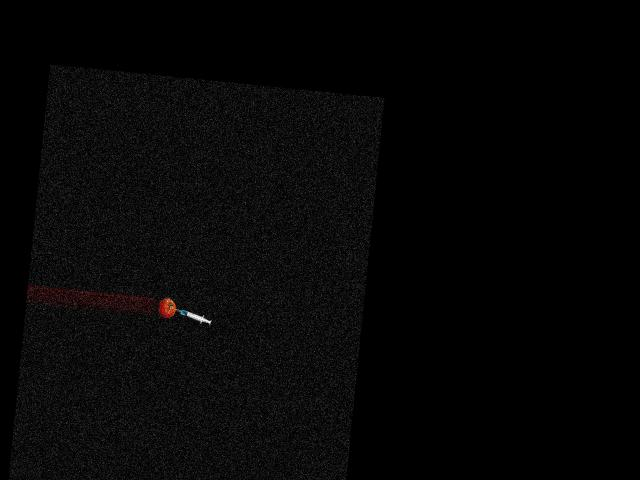tomato: (157, 297, 176, 319)
